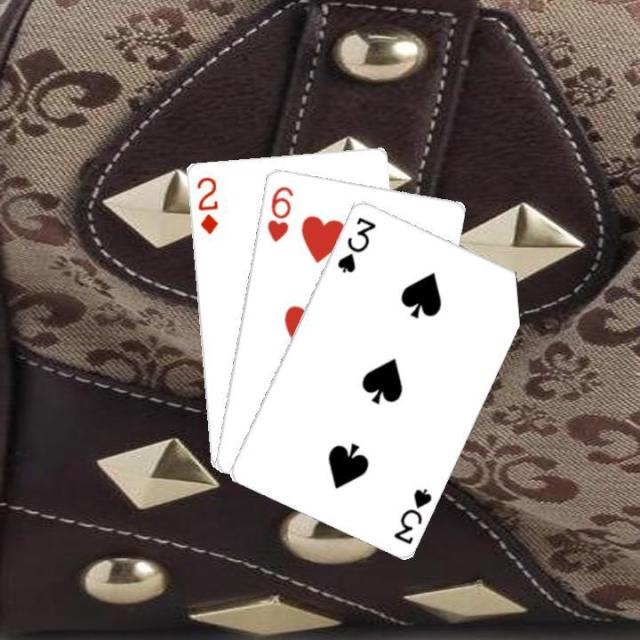2D: (192, 172, 220, 235)
3S: (332, 212, 378, 274), (389, 484, 434, 546)
6H: (262, 182, 295, 244)
